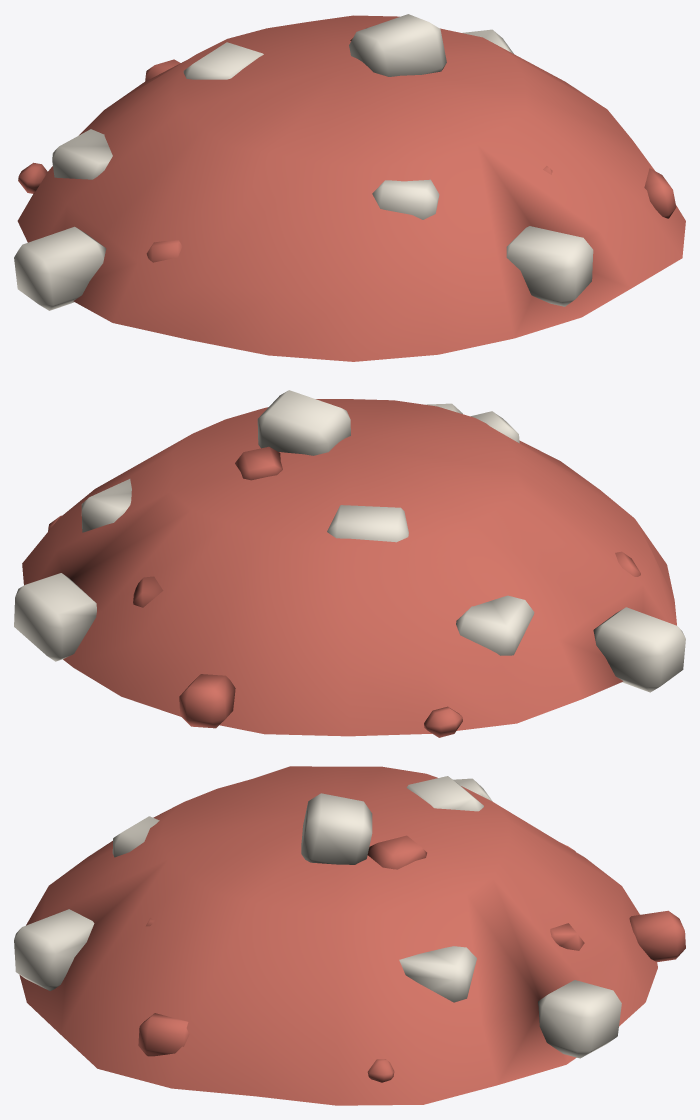
The model's file is prep_mince.glb.
3 views of the same model, one above another, from view 1: azimuth 30°, elevation 25°; view 2: azimuth 150°, elevation 25°; view 3: azimuth 270°, elevation 25° (orthographic).
Parts seen in each view (by area): view 1: PART; view 2: PART; view 3: PART.
Part boxes in pixels (<box>): PART: <box>14,14,685,361</box>; PART: <box>14,390,685,737</box>; PART: <box>14,766,685,1105</box>.
Bounding box in the file's own units: 0.1001 × 0.0305 × 0.0957.
